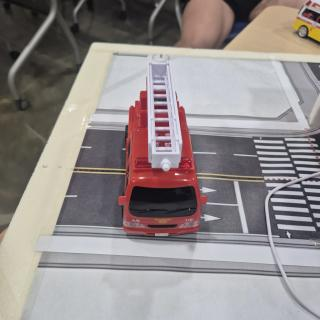Fire_truck: (118, 61, 207, 237)
